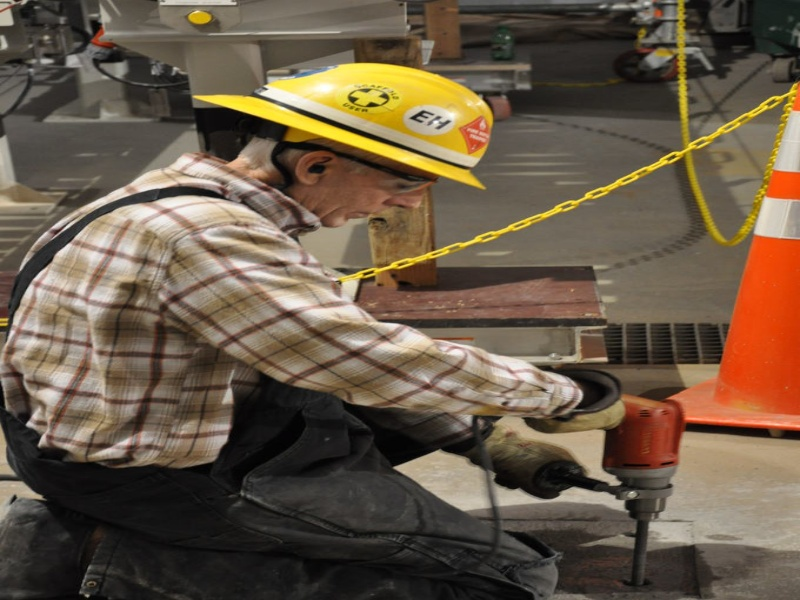Baret: (199, 59, 480, 183)
Gozluk: (300, 143, 430, 195)
